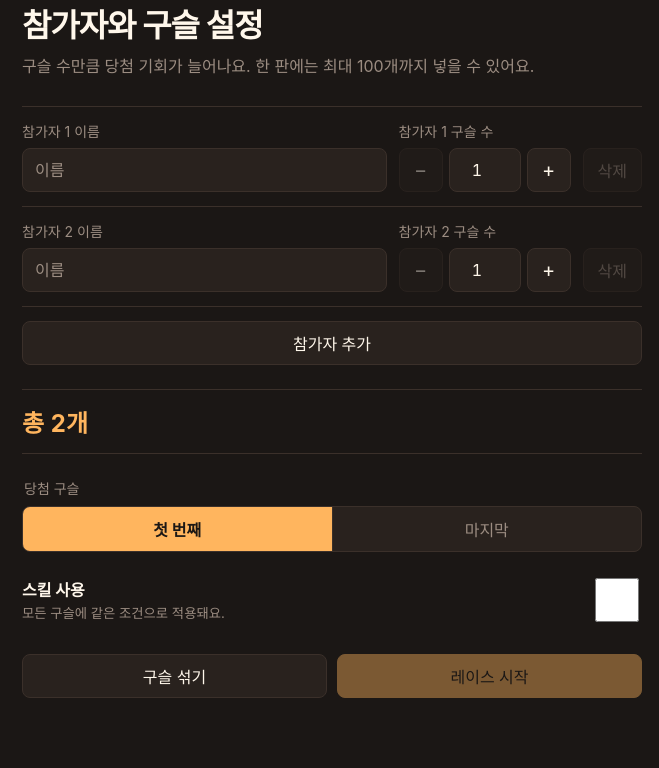
MarbleSetup › 잘못된 개수 0의 허용 범위를 입력 근처에서 안내한다
Type "짱구" into the field labelled "참가자 1 이름" at x=204, y=170, box [22,148,386,192]
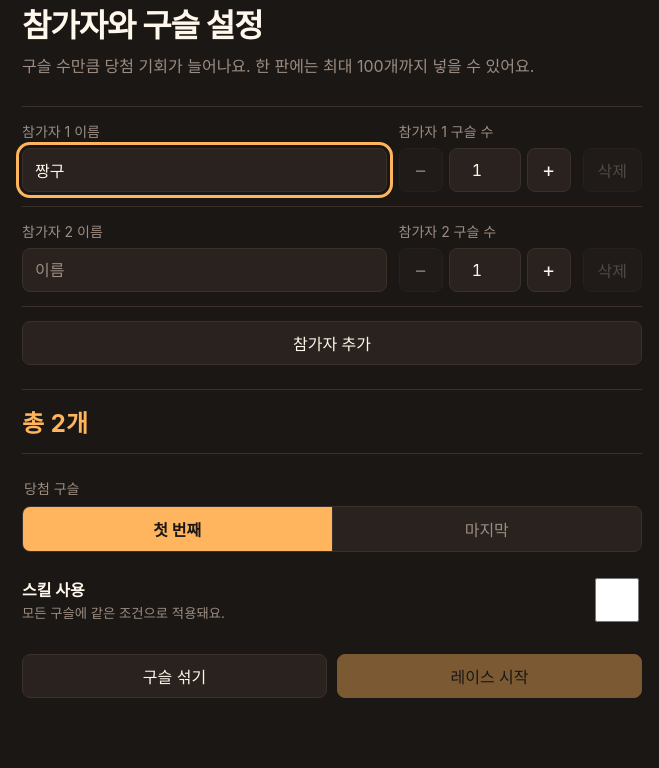
Type "철수" into the field labelled "참가자 2 이름" at x=204, y=270, box [22,248,386,292]
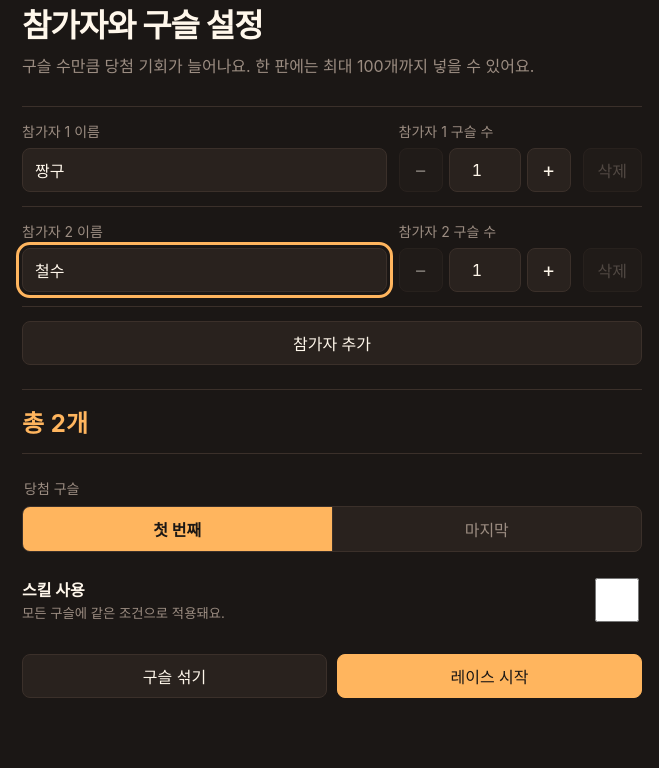
Replace the text in the number field labelled "참가자 1 구슬 수" with "0" at x=484, y=170, box [448,148,520,192]
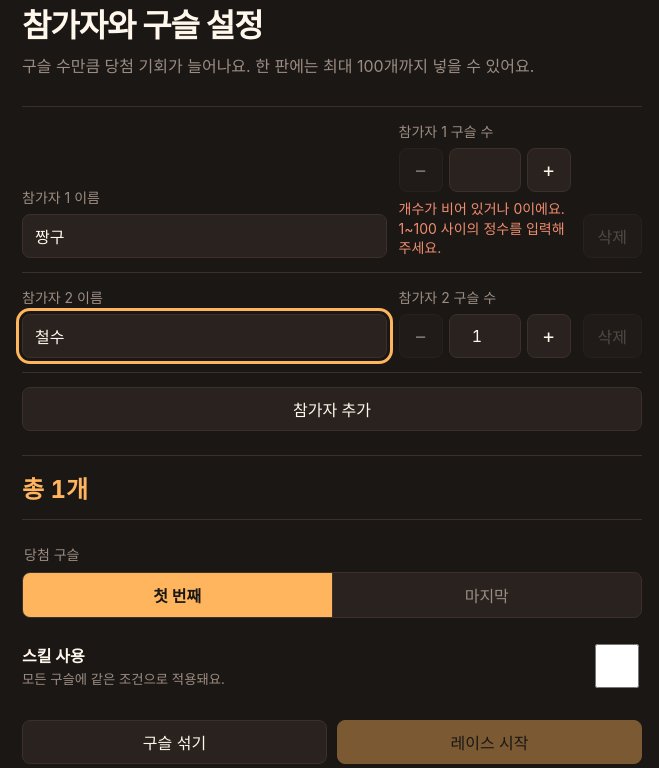
Expected: the button "레이스 시작" is disabled, [337,720,642,764]
